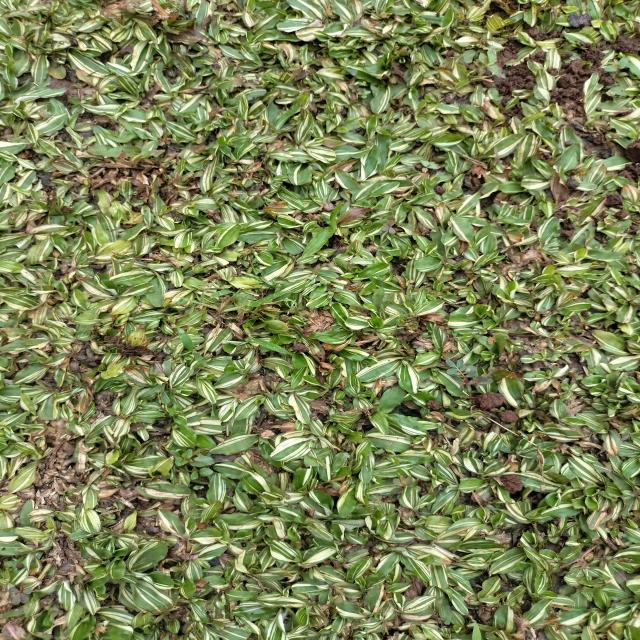buah daun: (446, 358, 496, 394), (381, 219, 398, 235)
rambat atas: (220, 287, 296, 313), (241, 323, 293, 356), (174, 278, 220, 310), (208, 286, 252, 312), (176, 327, 206, 365)
tunggang tengah: (602, 56, 630, 78)
ungu tunggang: (165, 447, 218, 479)
